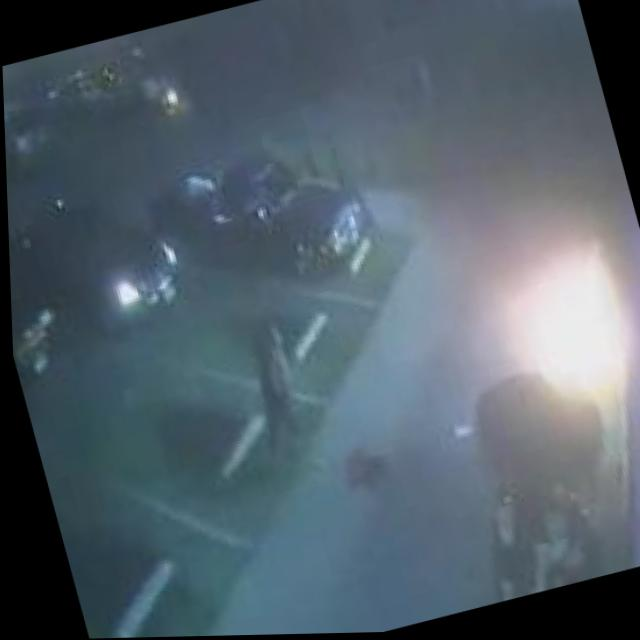fire: (483, 230, 640, 439), (159, 84, 184, 113)
